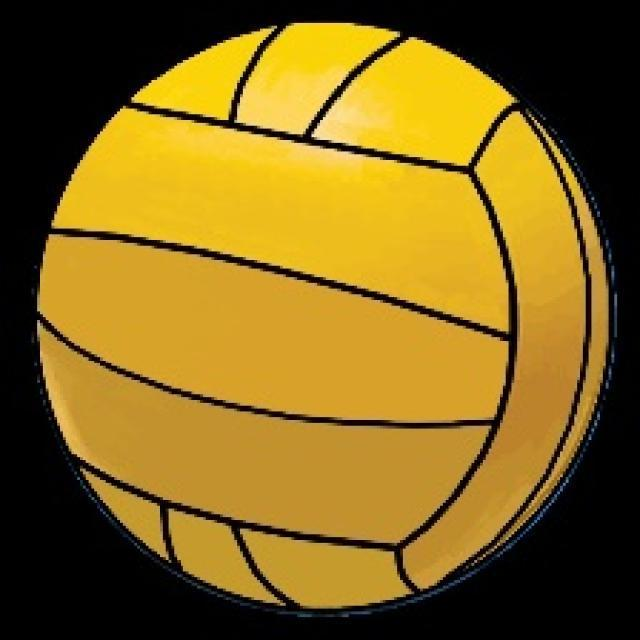volleyball: (40, 21, 612, 610)
